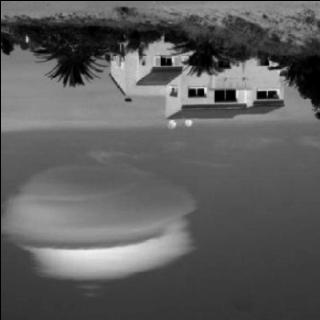Altocumulus: (0, 140, 213, 294)
